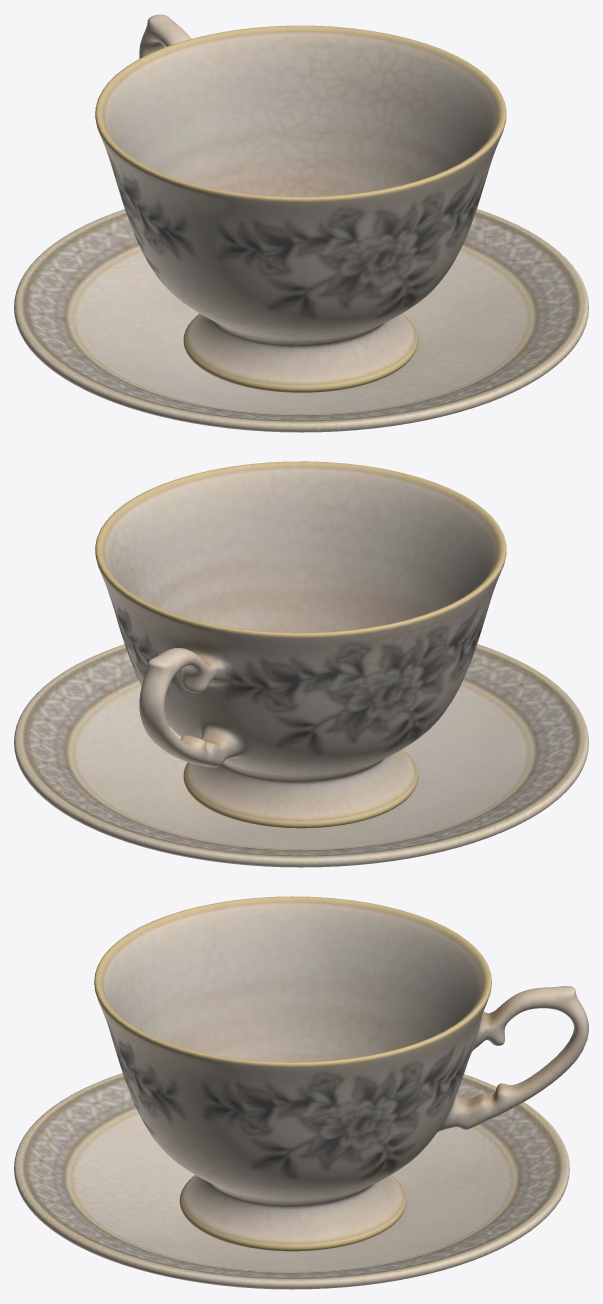
The model's file is tea_cups.glb.
3 views of the same model, one above another, from view 1: azimuth 30°, elevation 25°; view 2: azimuth 150°, elevation 25°; view 3: azimuth 270°, elevation 25° (orthographic). The views are drawn at different scales.
Visible parts, largest first — view 1: tea_cup, tea_saucer; view 2: tea_cup, tea_saucer; view 3: tea_cup, tea_saucer.
Part boxes in pixels (x1,y1,x2,y2): tea_cup: (95, 14, 506, 392); tea_saucer: (14, 209, 588, 432); tea_cup: (95, 461, 506, 828); tea_saucer: (14, 644, 588, 867); tea_cup: (94, 896, 588, 1251); tea_saucer: (14, 1073, 569, 1289).
Size of the model in its own units: 0.1486 by 0.0704 by 0.1537.
Materials: 2 (2 with a texture image).
